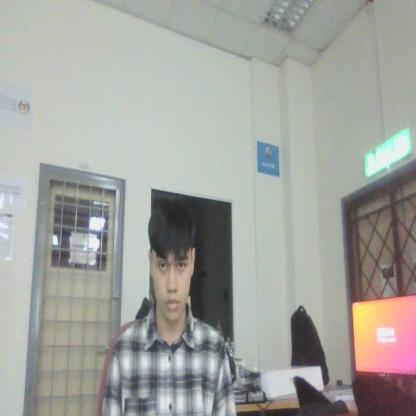Open-Eyes: (154, 247, 190, 278)
